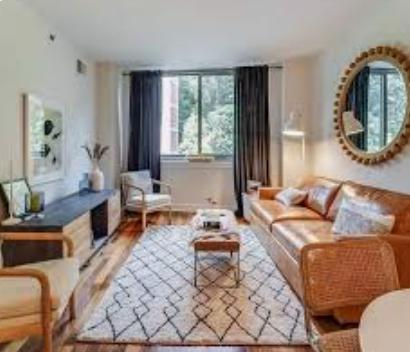carpet: (78, 225, 307, 345)
